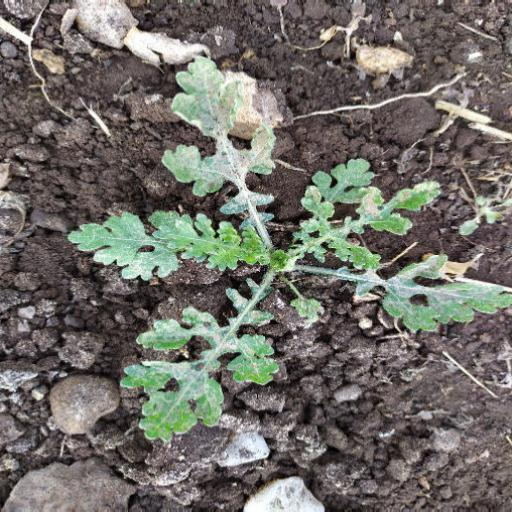weed: (75, 61, 512, 431)
